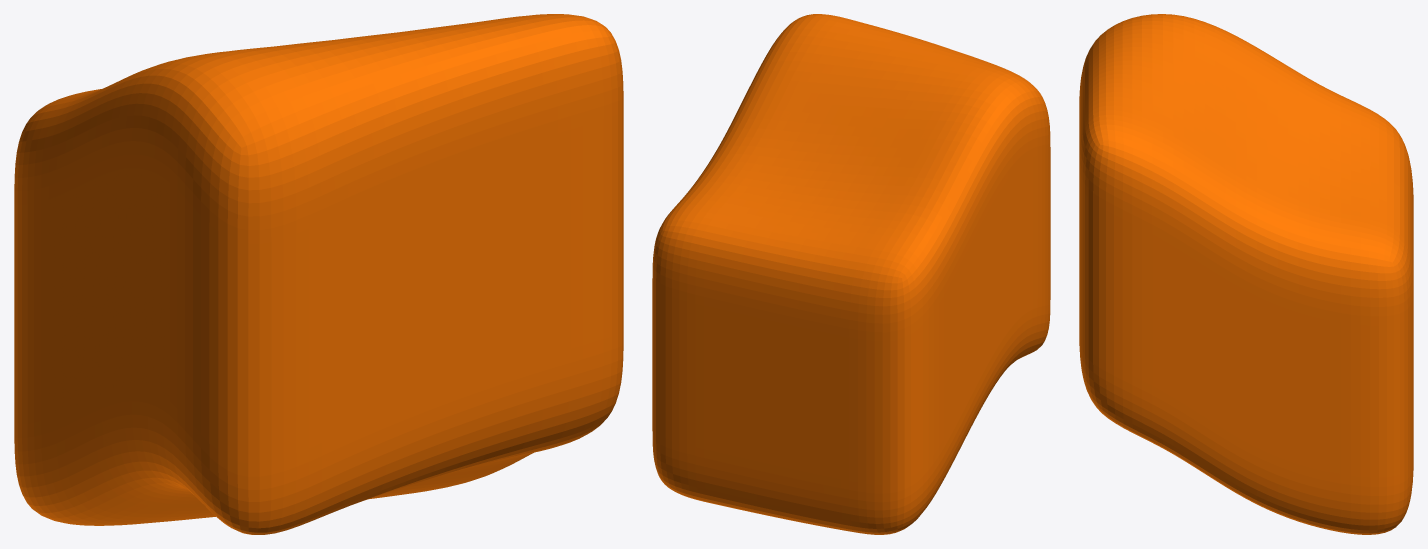
3 views of the same model, side by side, from view 1: azimuth 30°, elevation 25°; view 2: azimuth 150°, elevation 25°; view 3: azimuth 270°, elevation 25° (orthographic). The views are drawn at different scales.
Visible parts, largest first — view 1: smooth_1_base.002; view 2: smooth_1_base.002; view 3: smooth_1_base.002.
Part boxes in pixels (left/top/right/bottom): smooth_1_base.002: left=14, top=14, right=623, bottom=534; smooth_1_base.002: left=652, top=14, right=1050, bottom=534; smooth_1_base.002: left=1079, top=14, right=1413, bottom=534.
Size of the model in its own units: 60 by 81.36 by 60.
